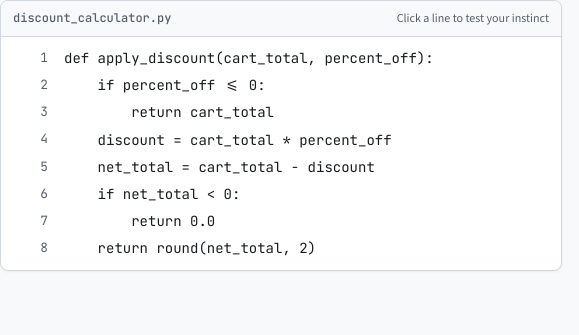
Test: Bug Hunt Arena: Visual Identity & Landing/Auth Flows › HeroBugSnippet (Click-the-Bug Interaction) › reveals wavy squiggle and explanation when clicking the buggy line
Click the button with aria-label "Line 4: discount = cart_total * percent_off": (216, 140) [40, 130, 392, 148]
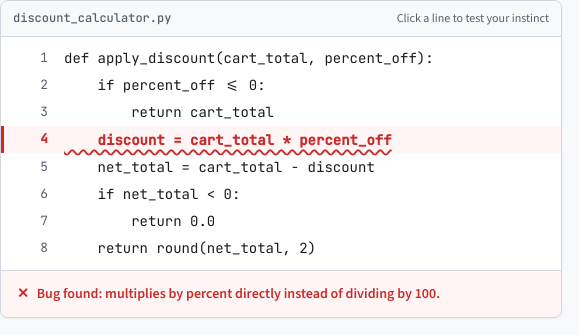
Expected: the text "discount = cart_total * percent_off" is shown, [64, 128, 392, 151]
Expected: the text "Bug found: multiplies by percent directly instead of dividing by 100" is shown, [37, 284, 440, 303]
